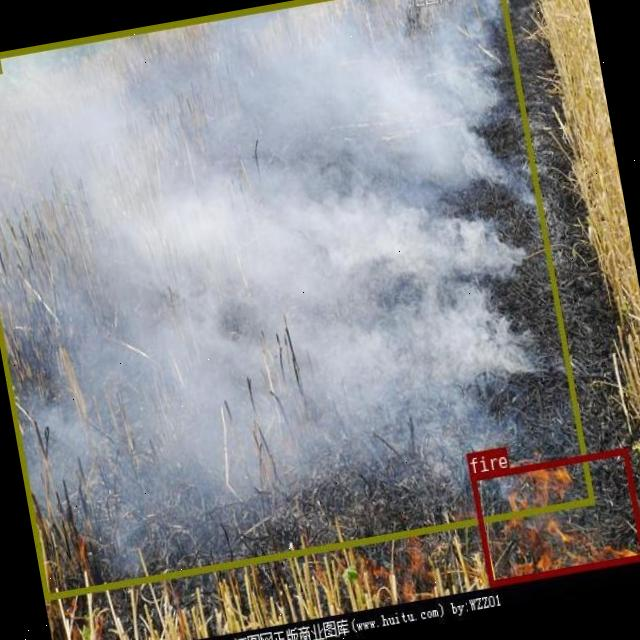fire: (469, 447, 640, 587)
smoke: (0, 0, 593, 599)
